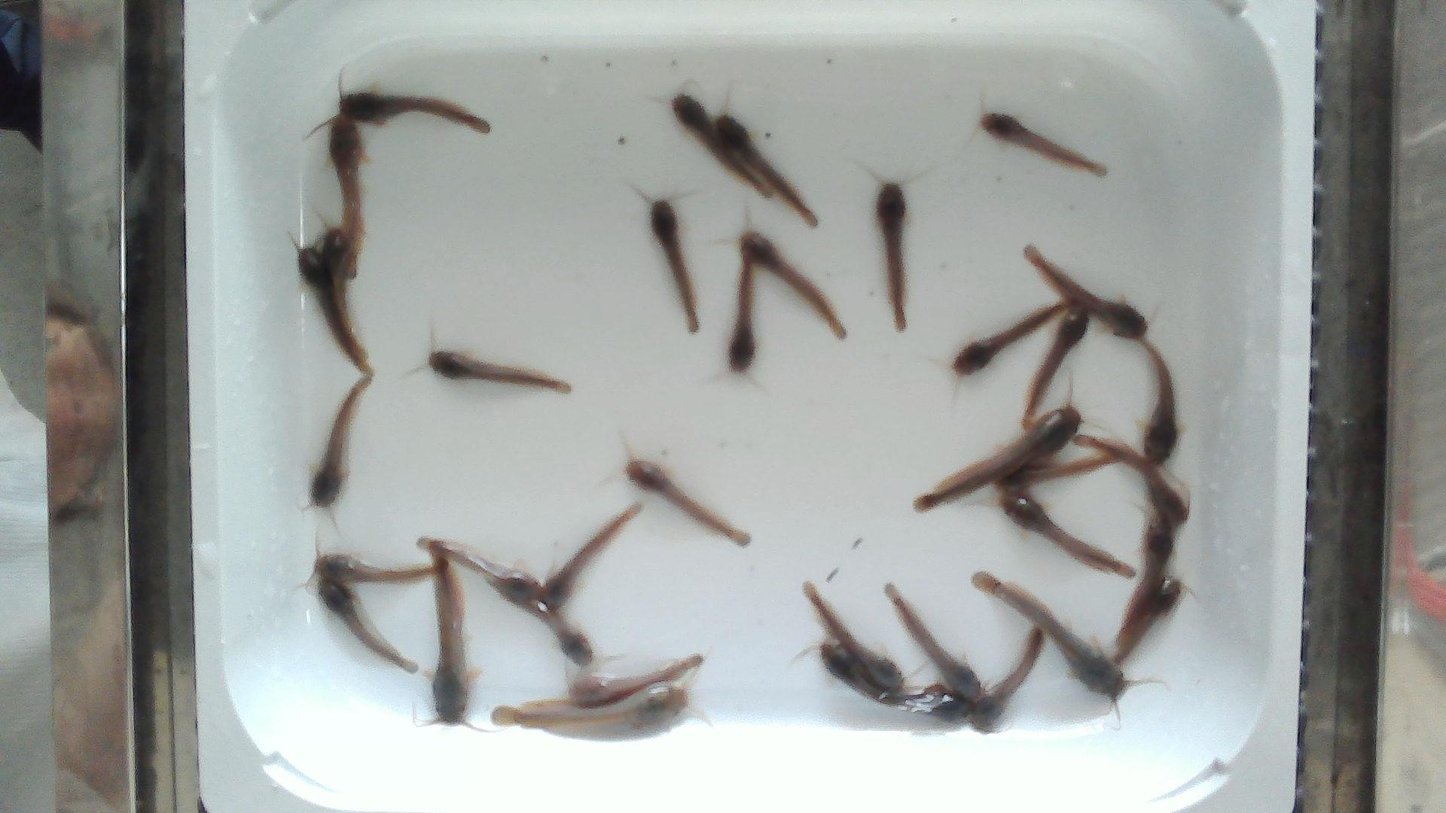lele: (973, 573, 1124, 699), (914, 404, 1081, 513), (996, 486, 1134, 577), (1023, 244, 1149, 339), (883, 584, 981, 703), (801, 581, 905, 692), (421, 539, 483, 725), (714, 117, 819, 226), (740, 232, 847, 338), (541, 503, 643, 611), (626, 459, 750, 546), (1072, 435, 1189, 527), (672, 94, 773, 197), (298, 246, 375, 375), (316, 580, 419, 674), (493, 681, 689, 729), (951, 301, 1068, 377), (981, 112, 1106, 175), (310, 376, 370, 507), (417, 538, 543, 600), (970, 629, 1044, 730), (822, 643, 942, 705), (1020, 310, 1087, 421), (567, 654, 706, 707), (1118, 518, 1174, 643), (649, 199, 699, 333), (1113, 577, 1184, 665), (339, 91, 490, 132), (428, 350, 571, 393), (507, 598, 594, 666), (329, 117, 364, 280), (326, 228, 369, 358), (996, 453, 1122, 489), (876, 183, 906, 330), (1142, 349, 1178, 464), (312, 553, 436, 581), (728, 255, 757, 372), (878, 692, 970, 718)
